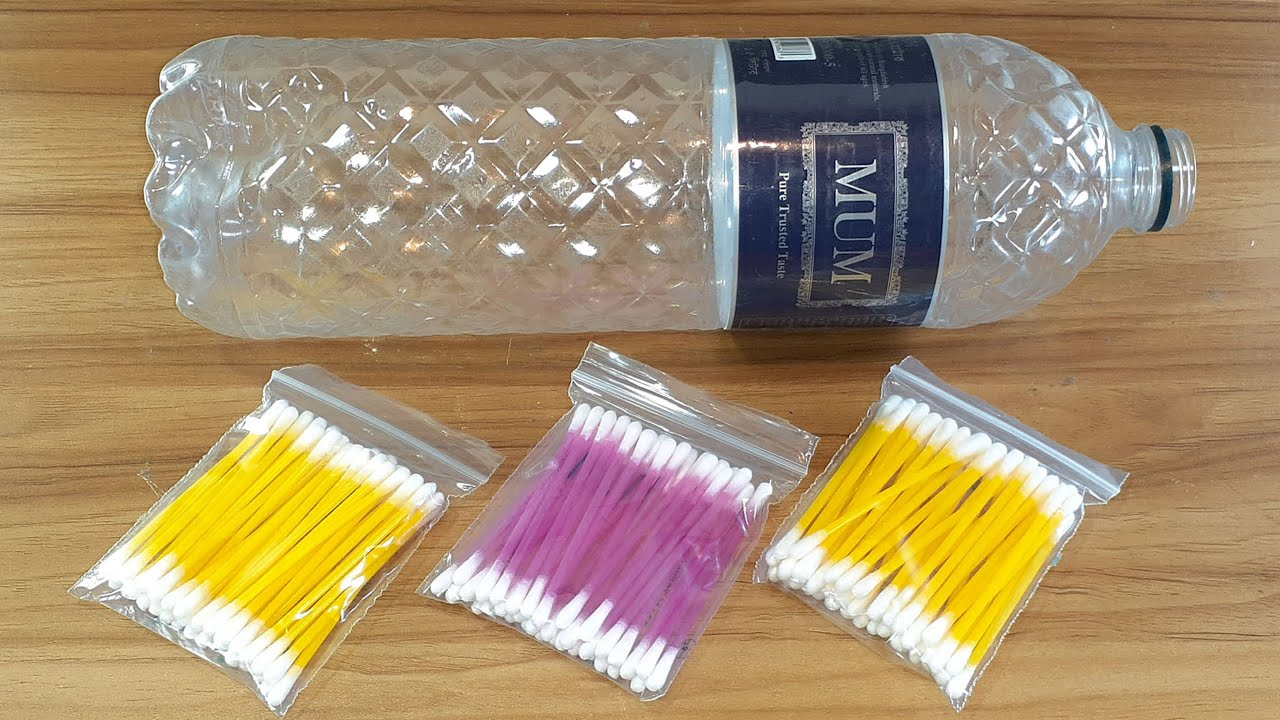plastic_bottle: (72, 1, 1232, 365)
